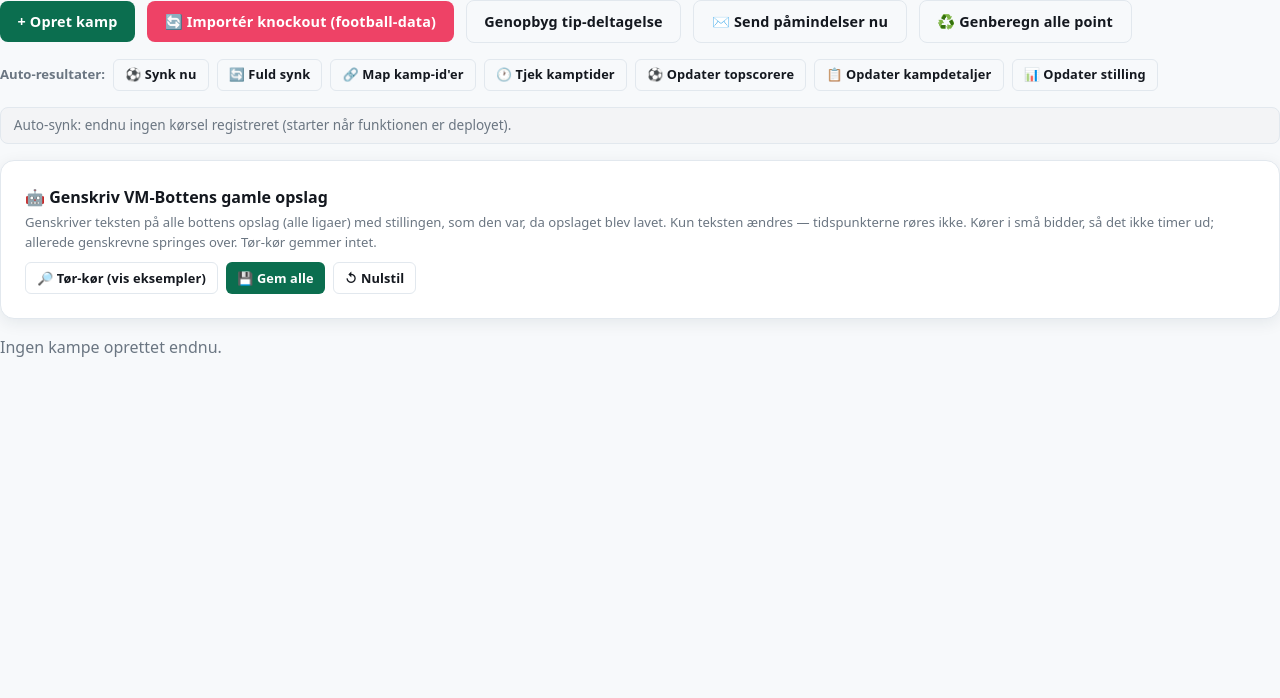
Test: MatchesTab › lukker opret-formular ved klik på Annuller oprettelse
This screenshot has width=1280, height=698.
Click the button "+ Opret kamp".
click(68, 21)  # box [0,1,135,42]
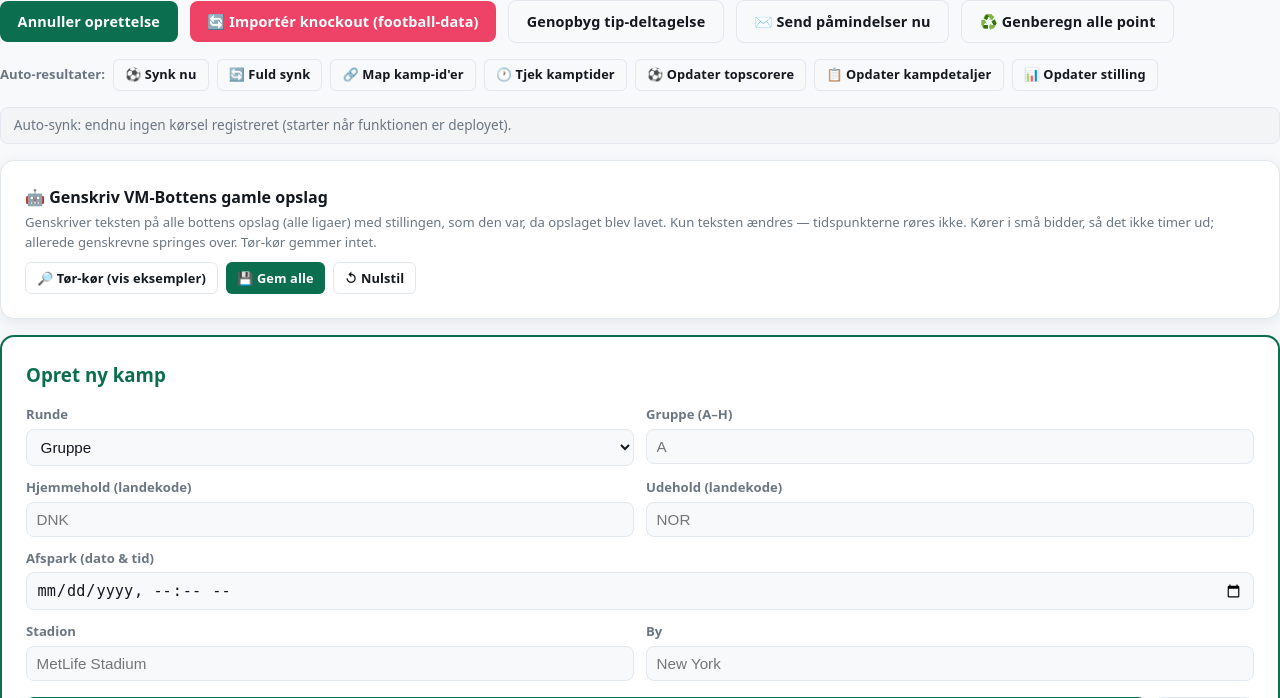
Click the button "Annuller oprettelse".
click(89, 21)  # box [0,1,178,42]
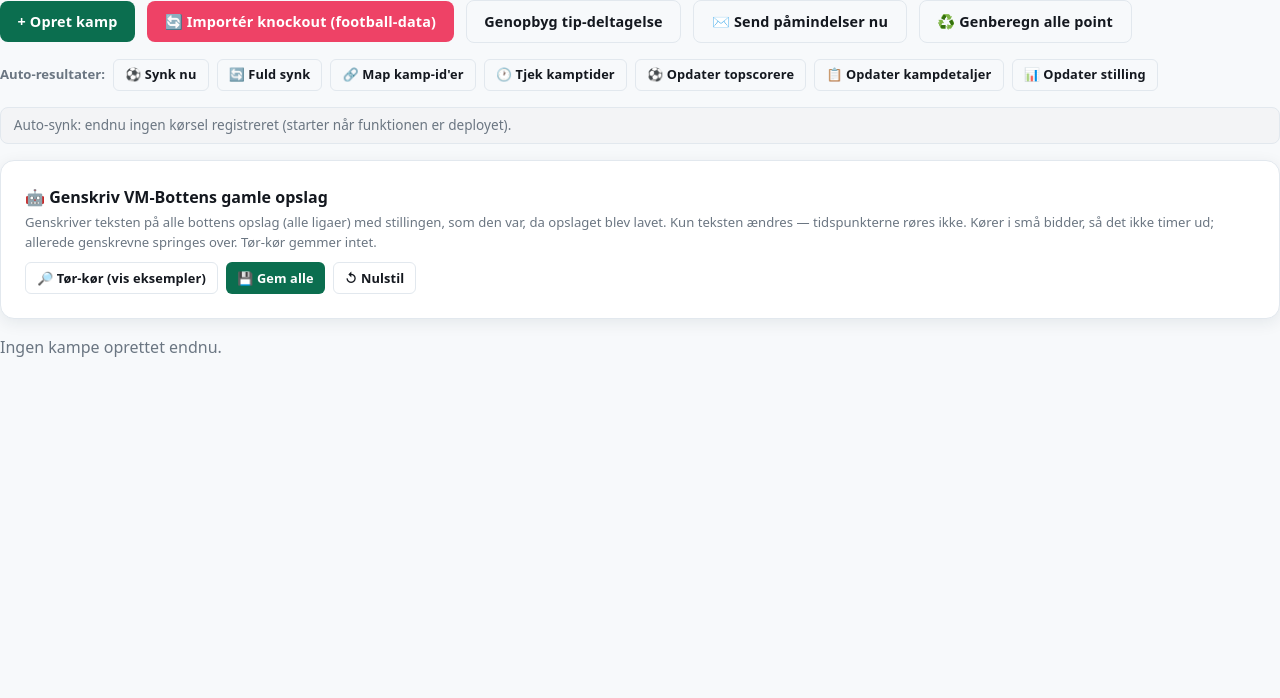
Check: the heading "Opret ny kamp" is gone
